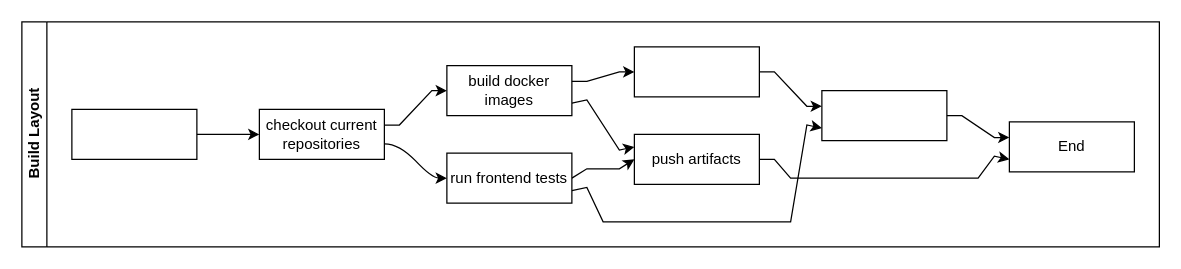
The diagram is 1181 pixels wide and 269 high, and some of its shapes have lost their labels. Here are the shapes that lost their labels. From the top down, the centre of each, then its label:
(x=696, y=71): run backend tests
(x=134, y=133): Start
(x=884, y=115): collect results
